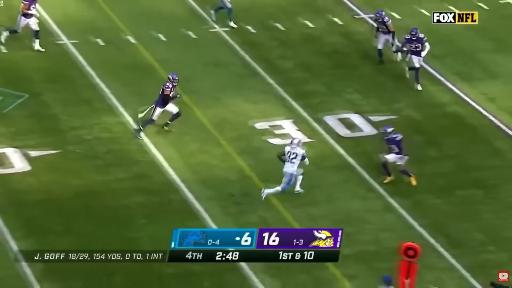Helmet: (383, 128, 396, 140), (168, 73, 179, 84), (291, 138, 300, 147), (410, 28, 419, 37), (375, 11, 384, 20)
Jersey: (283, 146, 306, 173), (155, 81, 177, 108), (404, 34, 426, 57), (385, 133, 404, 155), (375, 17, 391, 34), (22, 0, 37, 11)
Player: (261, 138, 309, 199), (136, 74, 181, 138), (0, 0, 45, 51), (381, 126, 416, 185), (398, 28, 430, 90), (374, 10, 395, 63), (211, 0, 237, 28)
